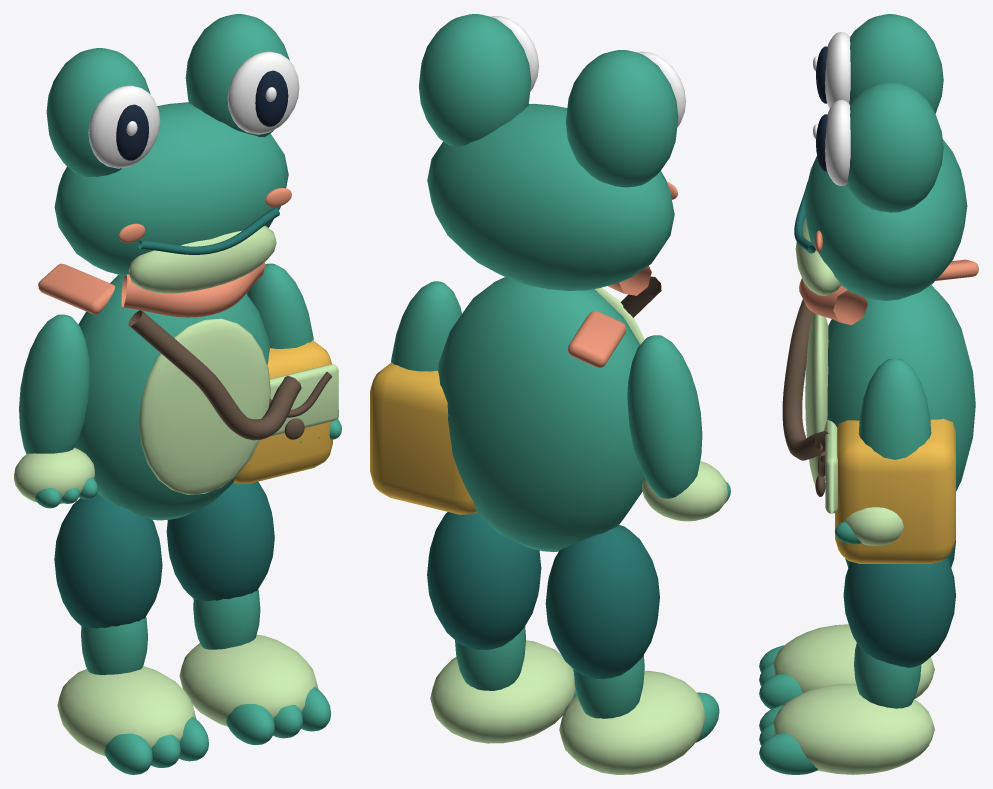
Rendered from Moss.glb.
3 renders of one model, left to right at view 1: azimuth 30°, elevation 25°; view 2: azimuth 150°, elevation 25°; view 3: azimuth 270°, elevation 25°, orthographic. The views are drawn at different scales.
Visible parts, largest first — view 1: Head geometry, Body geometry, Leg_L geometry, Leg_R geometry, Arm_L geometry, Arm_R geometry; view 2: Body geometry, Head geometry, Leg_L geometry, Leg_R geometry, Arm_L geometry, Arm_R geometry; view 3: Head geometry, Body geometry, Leg_R geometry, Arm_R geometry, Leg_L geometry.
Part boxes in pixels (x1=…): Head geometry: x1=46, y1=14, x2=299, y2=293; Body geometry: x1=38, y1=262, x2=338, y2=520; Leg_L geometry: x1=54, y1=493, x2=208, y2=774; Leg_R geometry: x1=166, y1=481, x2=330, y2=745; Arm_L geometry: x1=14, y1=314, x2=97, y2=508; Arm_R geometry: x1=246, y1=263, x2=341, y2=442; Body geometry: x1=370, y1=266, x2=661, y2=551; Head geometry: x1=419, y1=14, x2=685, y2=290; Leg_L geometry: x1=545, y1=525, x2=719, y2=774; Leg_R geometry: x1=427, y1=512, x2=576, y2=743; Arm_L geometry: x1=627, y1=335, x2=730, y2=521; Arm_R geometry: x1=391, y1=281, x2=461, y2=371; Head geometry: x1=794, y1=14, x2=967, y2=300; Body geometry: x1=782, y1=259, x2=978, y2=563; Leg_R geometry: x1=759, y1=557, x2=955, y2=774; Arm_R geometry: x1=835, y1=358, x2=931, y2=545; Leg_L geometry: x1=759, y1=540, x2=955, y2=709.
Size of the model in its own units: 1.3 by 2.69 by 0.7811.
